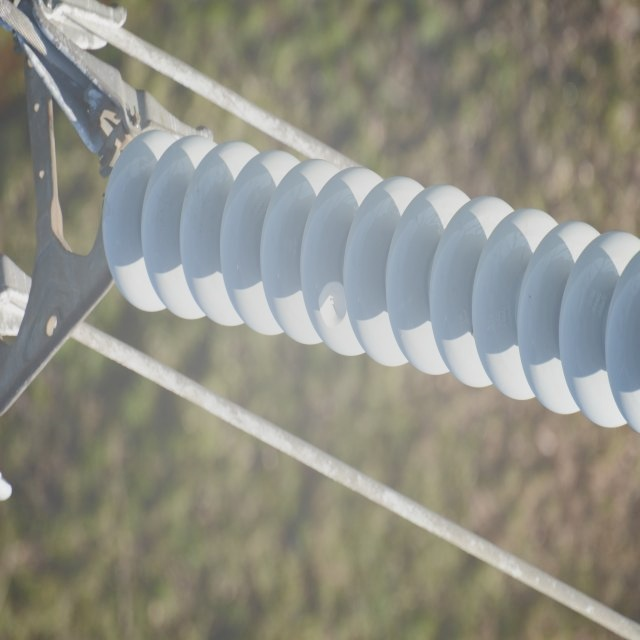broken: (319, 278, 349, 328)
insulator: (103, 130, 640, 436)
